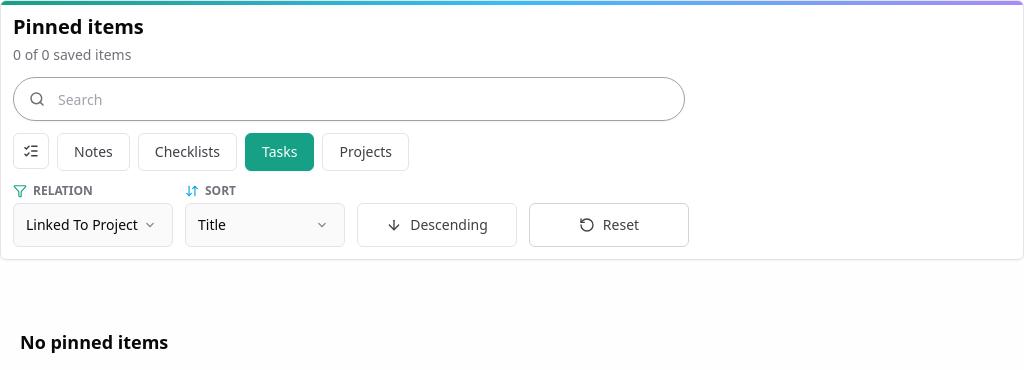
Test: list preference persistence › restores and saves dashboard types, relation, sorting and Reset
The width and height of the screenshot is (1024, 370).
Expected: the dropdown labelled "Sort" shows "title", [185, 203, 345, 247]
Expected: the dropdown labelled "Relation" shows "Linked to Project", [13, 203, 173, 247]
Click the button "Notes" at coordinates (93, 152), box [57, 133, 130, 171]
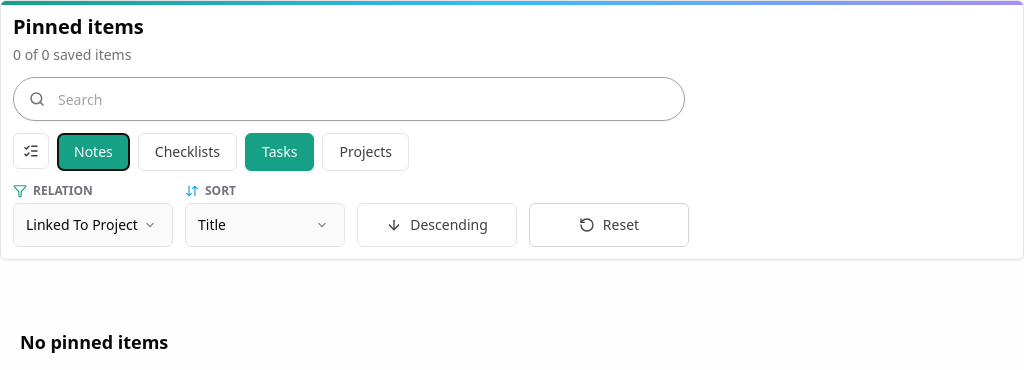
Select "Not Linked" in the dropdown labelled "Relation" at coordinates (93, 225), box [13, 203, 173, 247]
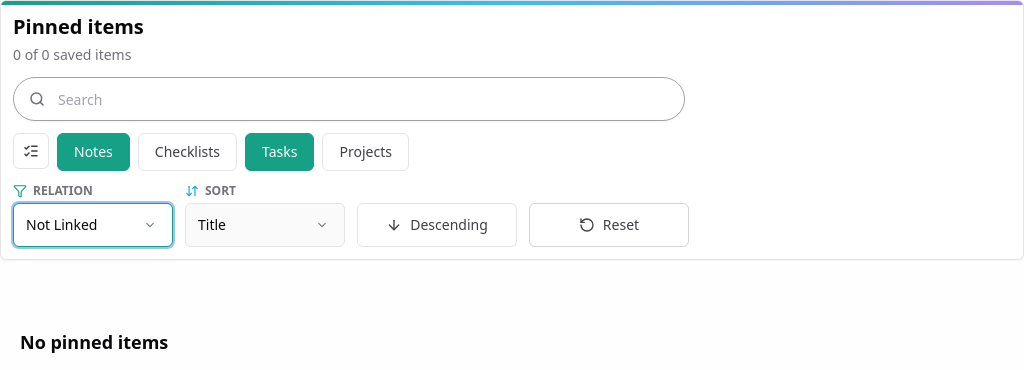
Select "updated" in the dropdown labelled "Sort" at coordinates (265, 225), box [185, 203, 345, 247]
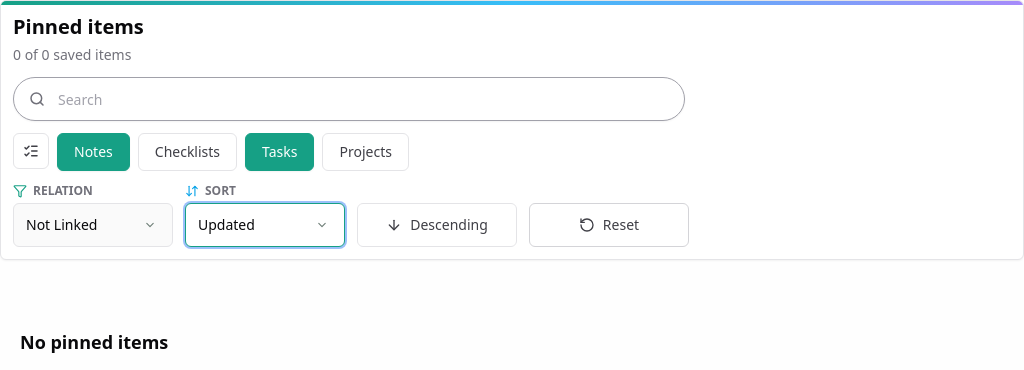
Click the button with aria-label "Sort descending. Click to reverse." at coordinates (437, 225), box [357, 203, 517, 247]
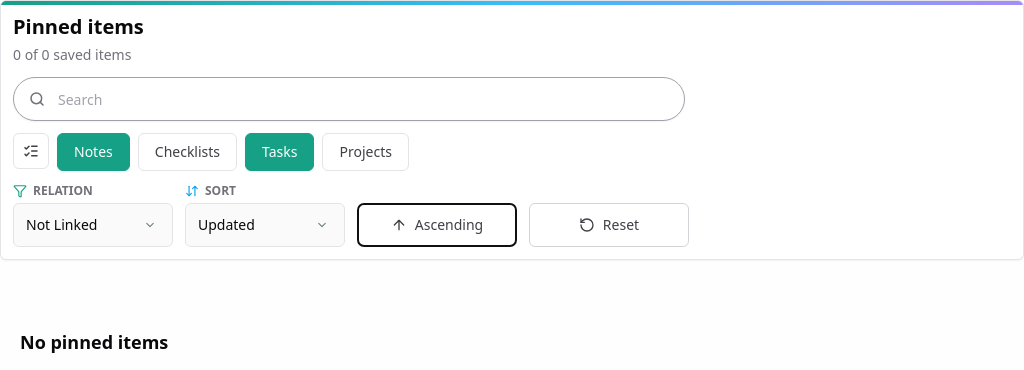
Click the button "Reset" at coordinates (609, 225), box [529, 203, 689, 247]
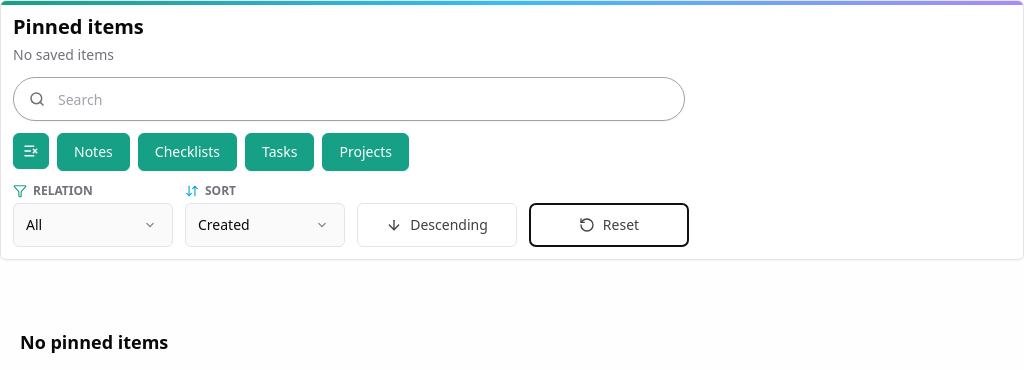
Expected: the button with aria-label "Sort descending. Click to reverse." is shown, [357, 203, 517, 247]
